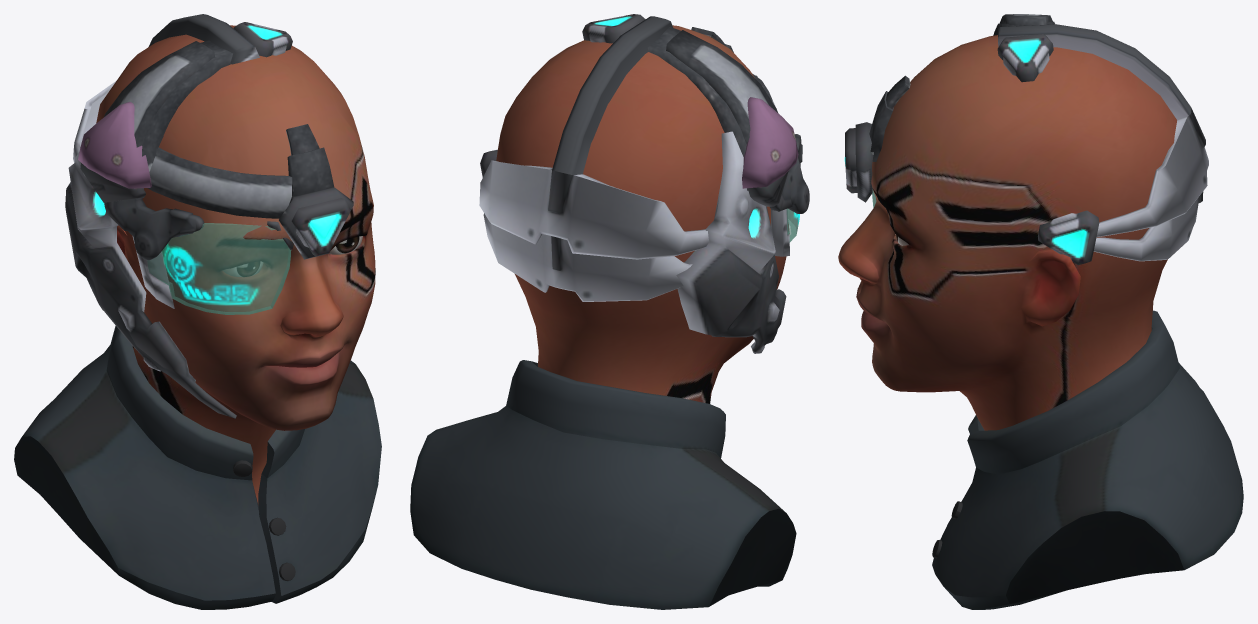
The model's file is humanHead.glb.
3 renders of one model, left to right at view 1: azimuth 30°, elevation 25°; view 2: azimuth 150°, elevation 25°; view 3: azimuth 270°, elevation 25°, orthographic. The views are drawn at different scales.
Parts seen in each view (by area): view 1: Wolf3D_Shirt, Wolf3D_Head, Wolf3D_Headwear; view 2: Wolf3D_Shirt, Wolf3D_Headwear, Wolf3D_Head; view 3: Wolf3D_Head, Wolf3D_Shirt, Wolf3D_Headwear.
Part boxes in pixels (x1,y1,x2,y2): Wolf3D_Shirt: (14,326,381,609); Wolf3D_Head: (96,25,375,504); Wolf3D_Headwear: (65,14,353,418); Wolf3D_Shirt: (410,360,796,609); Wolf3D_Headwear: (479,14,809,353); Wolf3D_Head: (496,25,789,403); Wolf3D_Head: (838,35,1176,430); Wolf3D_Shirt: (932,310,1243,609); Wolf3D_Headwear: (844,14,1208,265).
Bounding box in the file's own units: 0.2252 × 0.3679 × 0.2451.
Materials: 5 (5 with a texture image).
